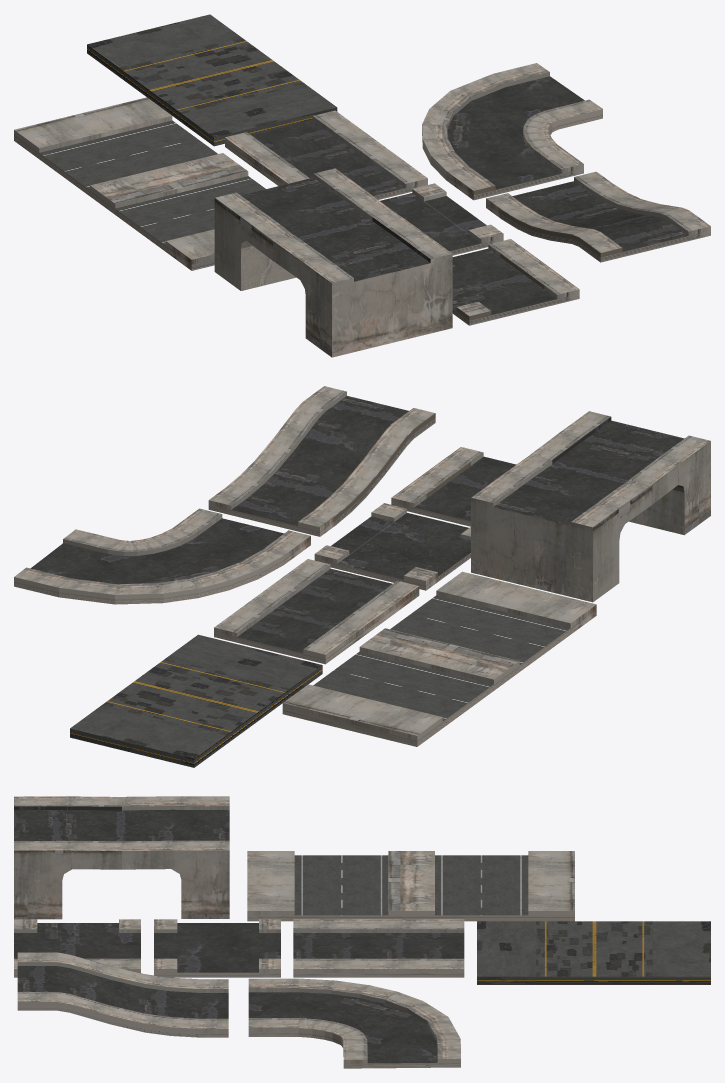
Rendered from old_street_pack.glb.
3 views of the same model, one above another, from view 1: azimuth 30°, elevation 25°; view 2: azimuth 150°, elevation 25°; view 3: azimuth 270°, elevation 25° (orthographic). The views are drawn at different scales.
Visible parts, largest first — view 1: Cubo.002, Cubo.001, Cubo.003, Cube.002, Cubo, Cube.003, Cube, Cube.004, Cube.001; view 2: Cubo.002, Cubo, Cubo.003, Cube.003, Cube.002, Cube, Cubo.001, Cube.001, Cube.004; view 3: Cubo.002, Cubo.003, Cube.002, Cube.003, Cubo.001, Cubo, Cube, Cube.001, Cube.004.
Boxes of the visible parts, box(x1,y1,x2,y2) form: Cubo.002: box(14, 97, 265, 270); Cubo.001: box(273, 211, 452, 357); Cubo.003: box(87, 14, 337, 146); Cube.002: box(422, 63, 602, 200); Cubo: box(214, 168, 393, 290); Cube.003: box(486, 171, 710, 262); Cube: box(225, 110, 427, 199); Cube.004: box(452, 239, 579, 325); Cube.001: box(380, 183, 503, 255); Cubo.002: box(282, 571, 596, 746); Cubo: box(471, 455, 652, 602); Cubo.003: box(70, 634, 322, 767); Cube.003: box(208, 386, 435, 536); Cube.002: box(14, 508, 310, 604); Cube: box(214, 559, 419, 664); Cubo.001: box(530, 411, 710, 535); Cube.001: box(314, 503, 470, 590); Cube.004: box(391, 447, 516, 526); Cubo.002: box(247, 851, 574, 921); Cubo.003: box(477, 921, 710, 984); Cube.002: box(248, 978, 460, 1068); Cube.003: box(17, 952, 228, 1037); Cubo.001: box(14, 796, 121, 919); Cubo: box(122, 796, 229, 918); Cube: box(293, 919, 464, 977); Cube.001: box(154, 919, 280, 977); Cube.004: box(14, 919, 140, 977).
Size of the model in its own units: 42.24 by 6.93 by 59.72.
13 materials, 13 textured.
